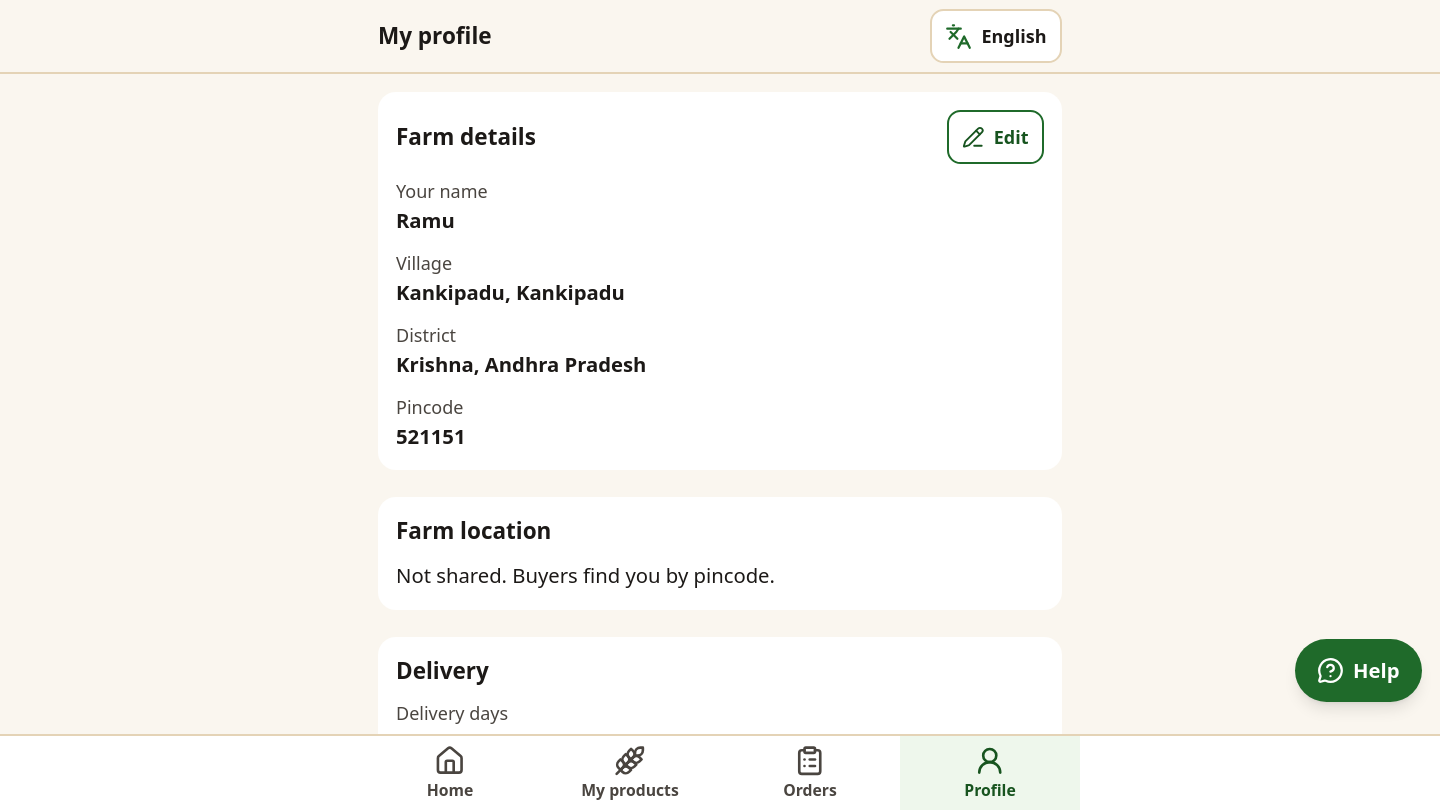
farmer profile › edits the profile and sends rupees as paise
The image size is (1440, 810).
Click the button "Edit" at (995, 137), box [947, 110, 1044, 164]
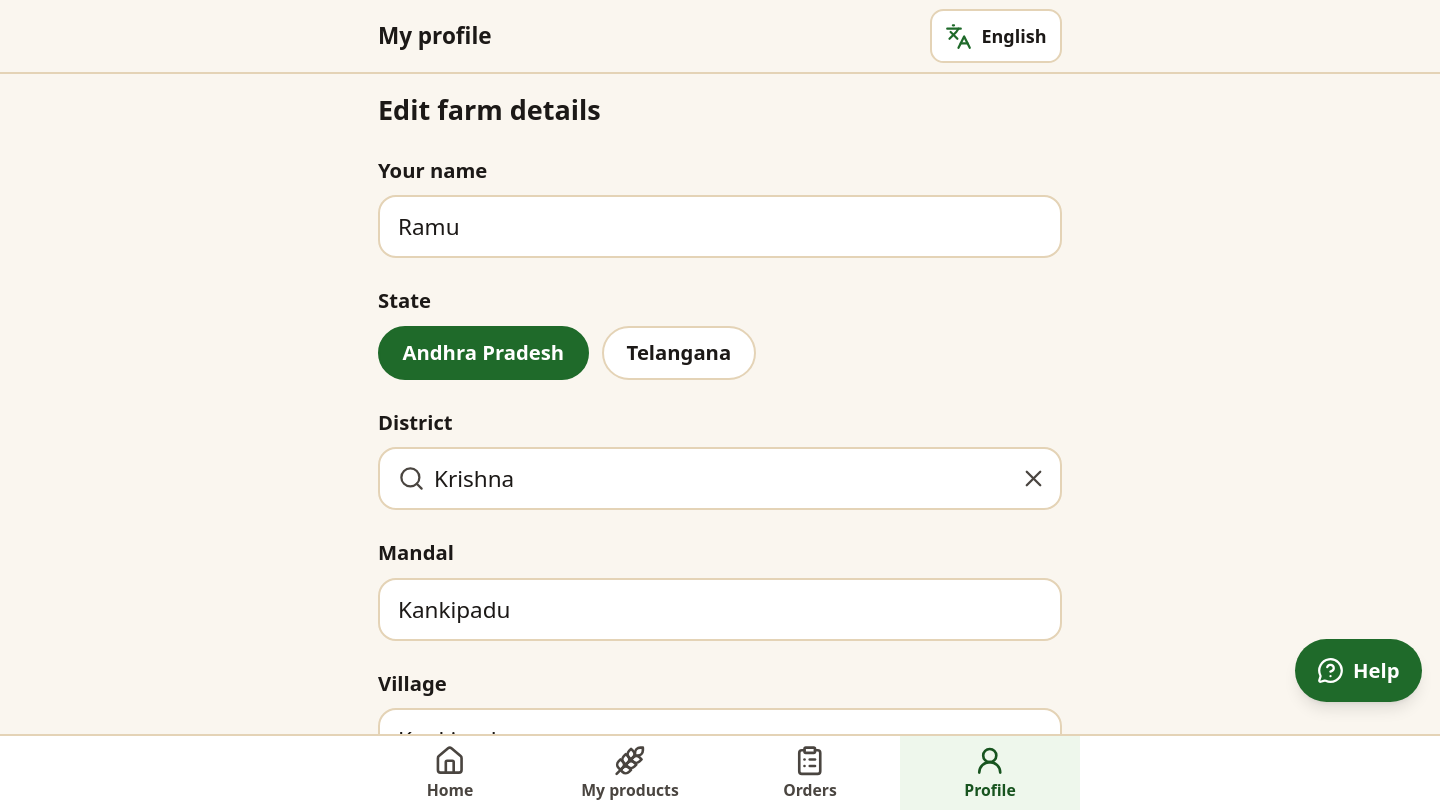
Replace the text in the field labelled "Your name" with "Ramu Naidu" at (720, 227), box [380, 198, 1060, 256]
(page scrolled)
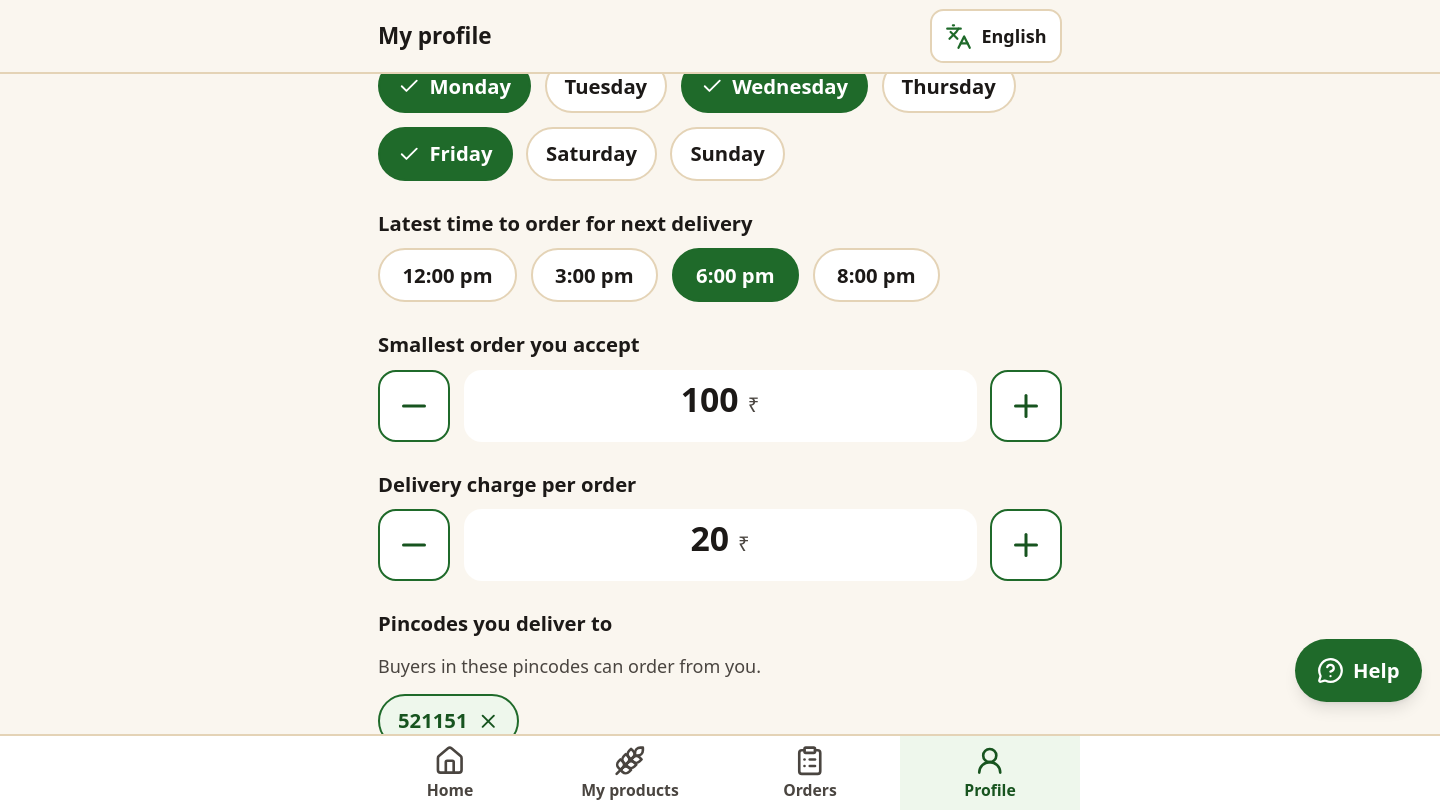
Click the button named "Increase Smallest order you accept" at (1026, 406), box [990, 370, 1062, 442]
(page scrolled)
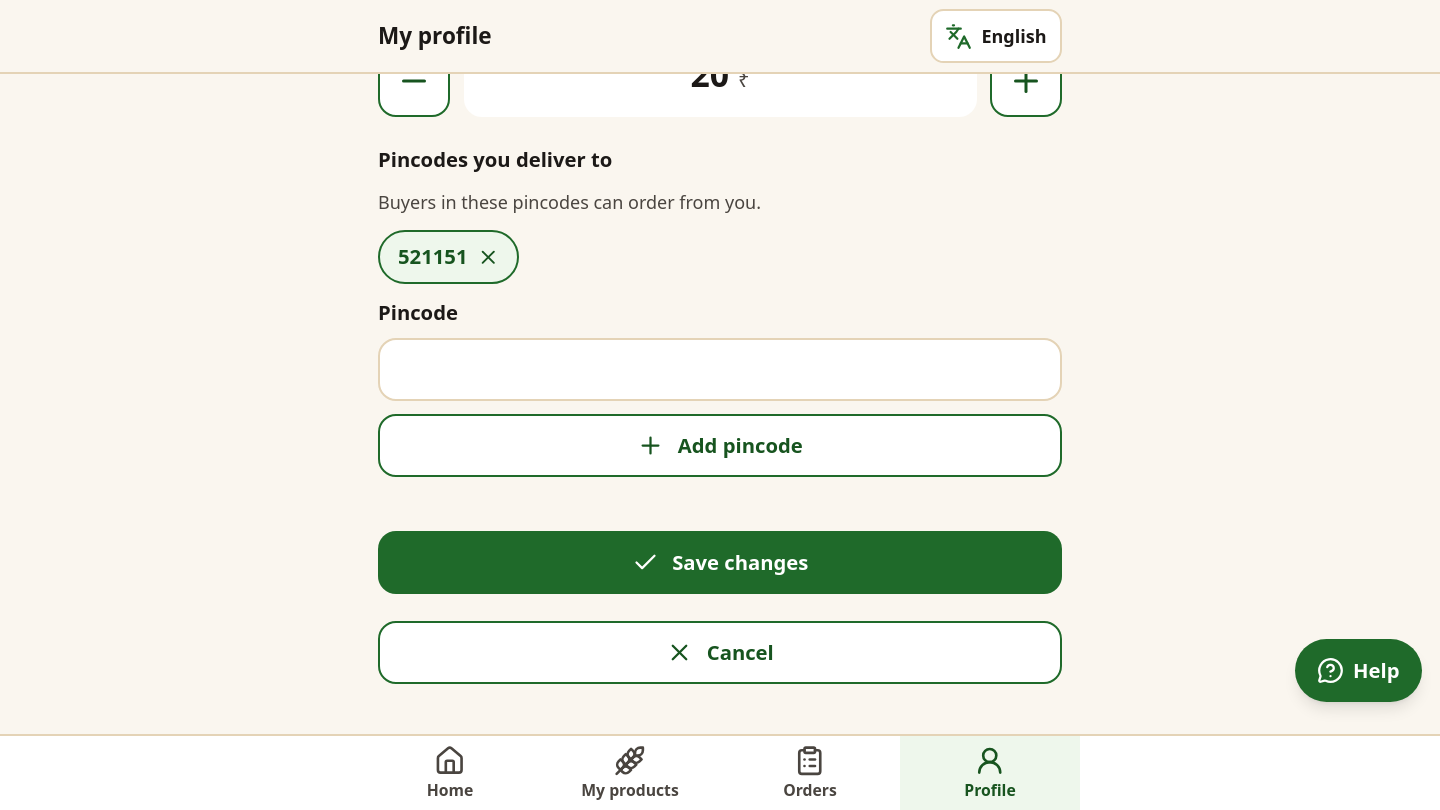
Click the button "Save changes" at (720, 563), box [378, 532, 1062, 594]
(page scrolled)
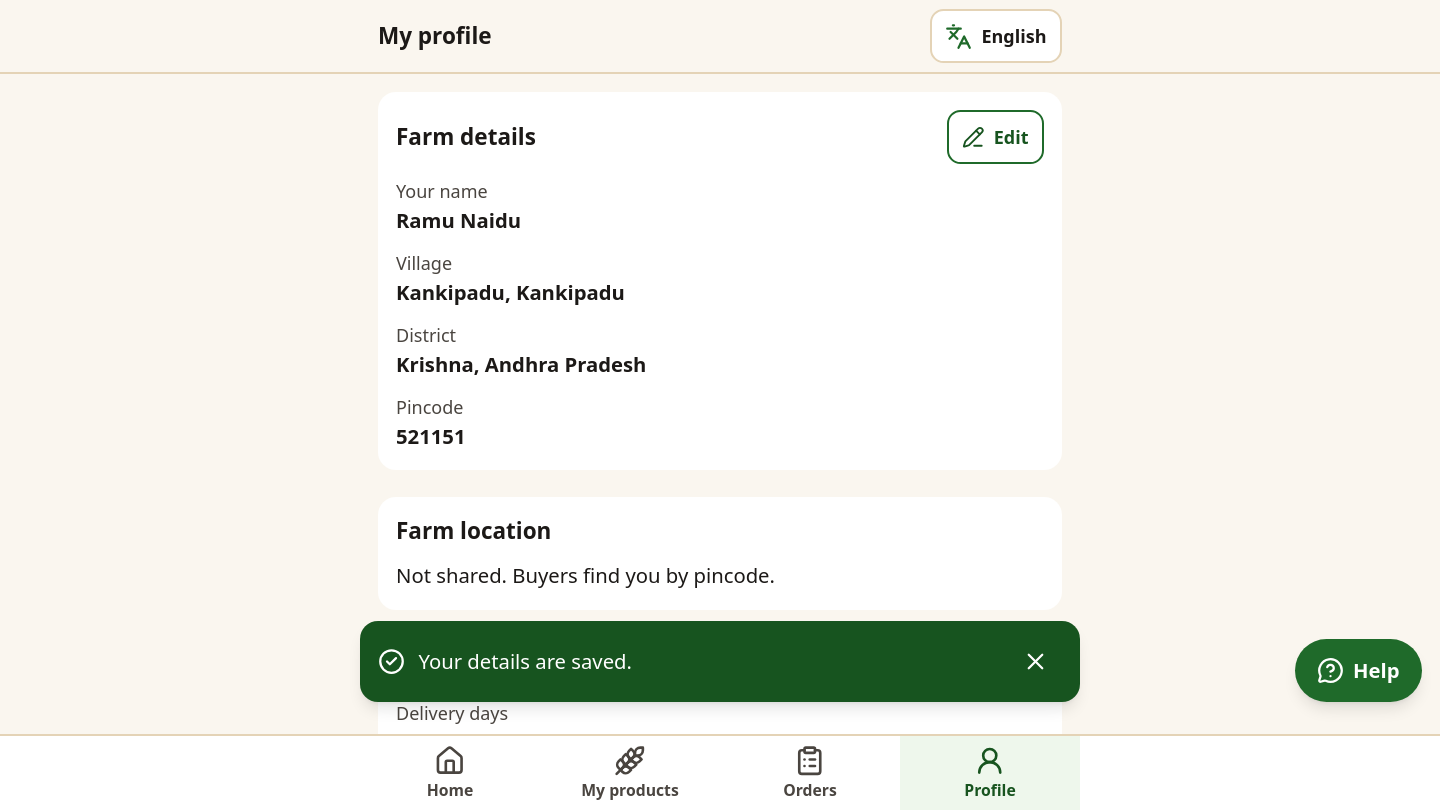
Check: the text "Your details are saved." is shown, box [418, 647, 632, 675]
Check: the text "Ramu Naidu" is shown, box [396, 206, 521, 234]
